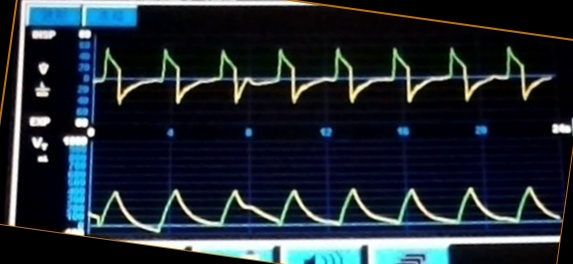Premature_cycling Flow: (97, 37, 549, 120)
Premature_cycling Volume: (93, 167, 559, 233)
